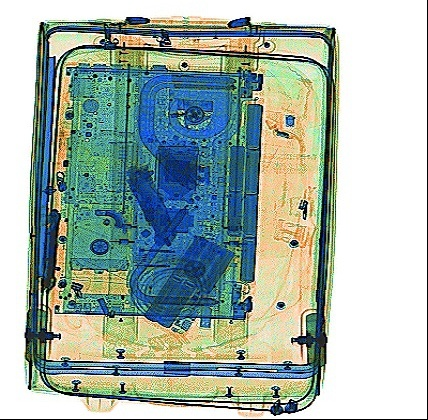knife: (122, 162, 178, 249), (38, 203, 61, 293)
powerbank: (141, 228, 234, 337)
